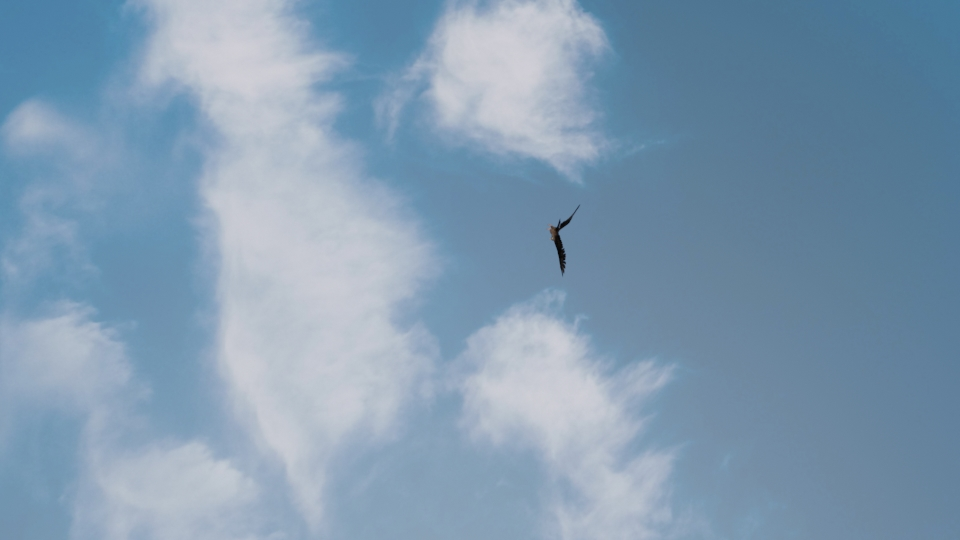bird: (549, 204, 583, 274)
